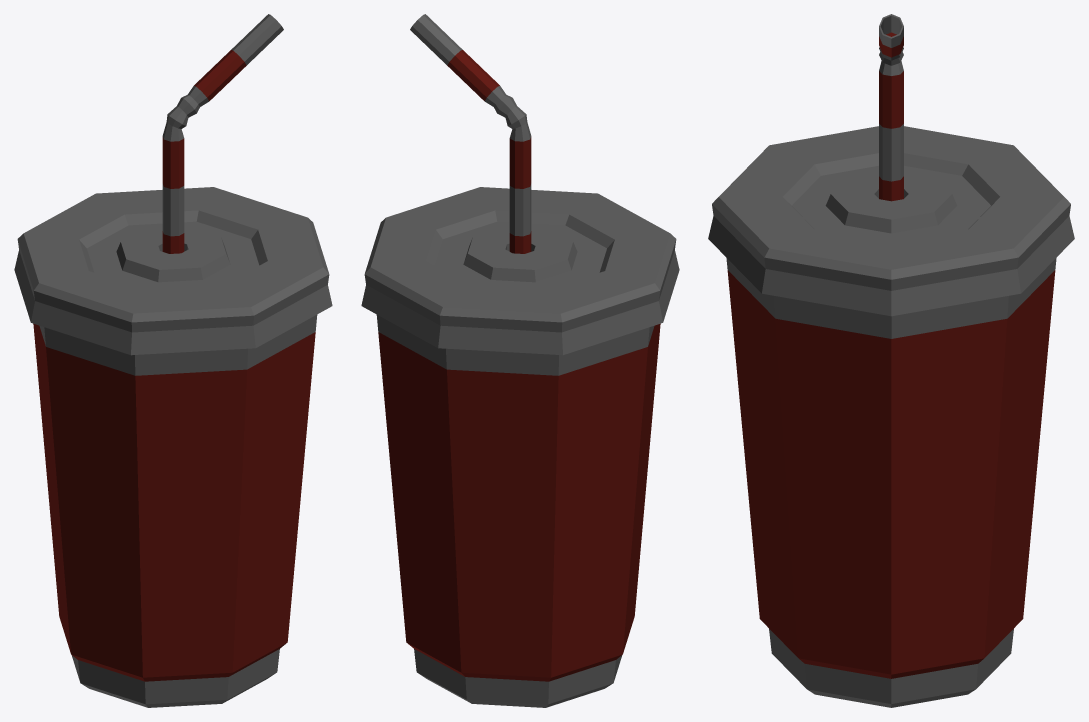
The model's file is Soda.obj.
3 views of the same model, side by side, from view 1: azimuth 30°, elevation 25°; view 2: azimuth 150°, elevation 25°; view 3: azimuth 270°, elevation 25° (orthographic). The views are drawn at different scales.
Visible parts, largest first — view 1: Soda_Cylinder.006; view 2: Soda_Cylinder.006; view 3: Soda_Cylinder.006.
Part boxes in pixels (box(x1,y1,x2,y2)): Soda_Cylinder.006: box(14, 14, 332, 707); Soda_Cylinder.006: box(361, 14, 679, 707); Soda_Cylinder.006: box(708, 14, 1074, 707).
Size of the model in its own units: 0.9118 by 1.92 by 0.9118.
